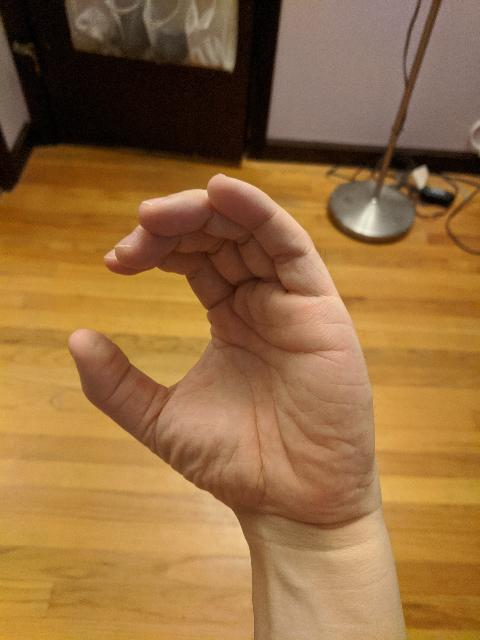C: (64, 168, 390, 524)
